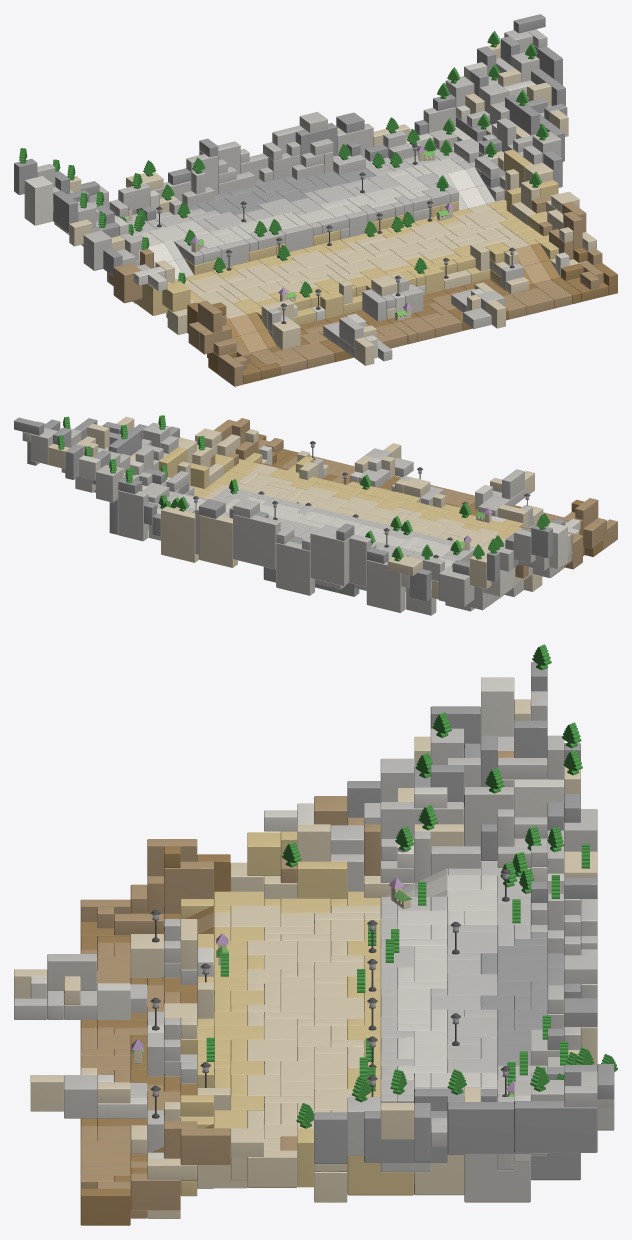
Rendered from Town master crab.fbx.
3 renders of one model, top to bottom at view 1: azimuth 30°, elevation 25°; view 2: azimuth 150°, elevation 25°; view 3: azimuth 270°, elevation 25°, orthographic. The views are drawn at different scales.
Parts seen in each view (by area): view 1: BuildimgA5; view 2: BuildimgA5; view 3: BuildimgA5.
Part boxes in pixels (<box>): BuildimgA5: <box>14,14,617,386</box>; BuildimgA5: <box>14,415,617,615</box>; BuildimgA5: <box>14,644,617,1225</box>.
Bounding box in the file's own units: 1800 × 465 × 1087.
